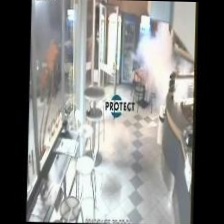smoke: (136, 26, 190, 117)
